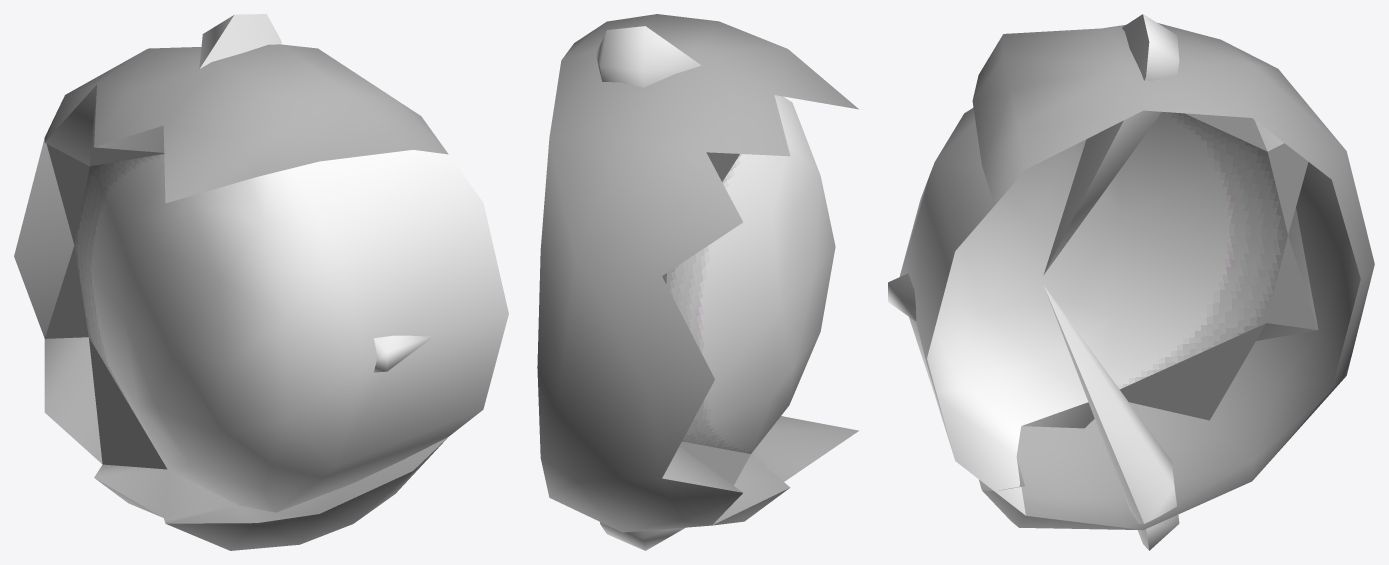
The model's file is girl10b.dae.
3 views of the same model, side by side, from view 1: azimuth 30°, elevation 25°; view 2: azimuth 150°, elevation 25°; view 3: azimuth 270°, elevation 25° (orthographic).
Visible parts, largest first — view 1: girl10b; view 2: girl10b; view 3: girl10b.
Boxes of the visible parts, bbox=[...] form: girl10b: bbox=[14, 14, 508, 550]; girl10b: bbox=[537, 14, 858, 550]; girl10b: bbox=[888, 14, 1374, 550].
Bounding box in the file's own units: 16.67 × 26.71 × 22.23.
Materials: 3 (1 with a texture image).
